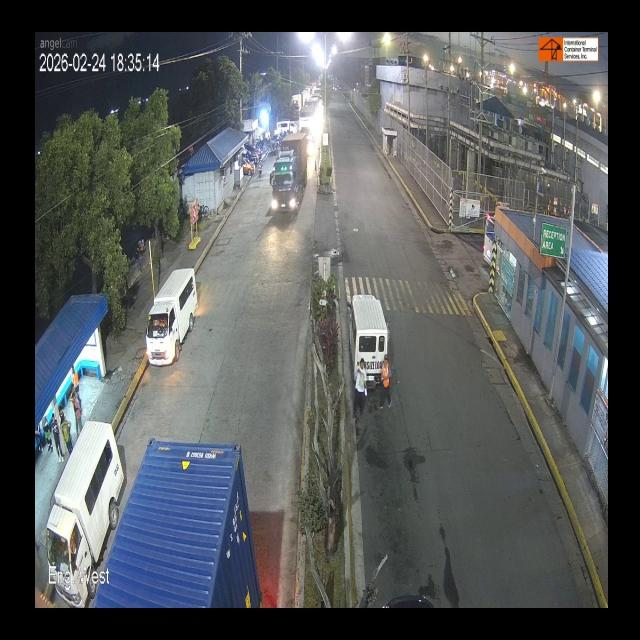car: (53, 452, 115, 570), (144, 275, 198, 373), (354, 295, 383, 381)
truck: (270, 136, 310, 223)
